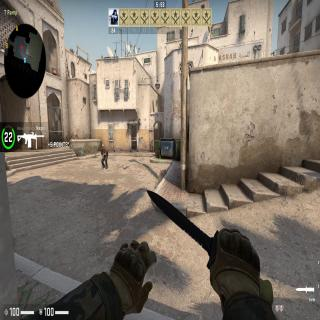T-Body: (101, 144, 109, 170)
T-Head: (102, 144, 105, 150)
